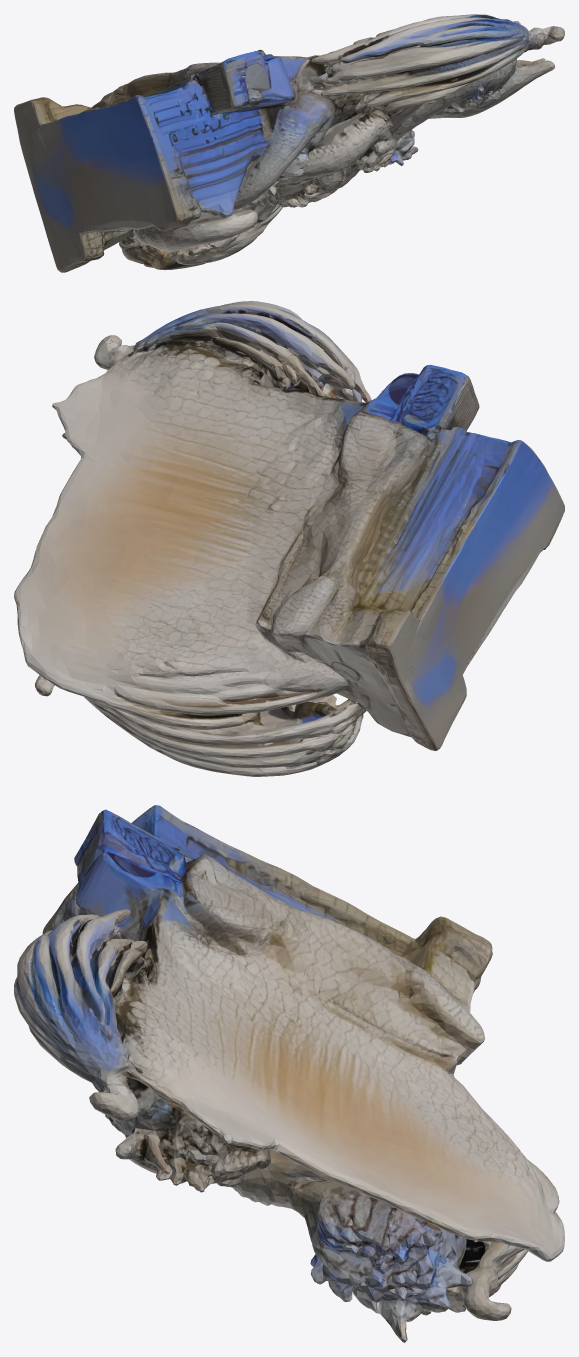
Rendered from grey-dragons-heart.glb.
The picture shows the model from 3 angles, top to bottom: view 1: azimuth 30°, elevation 25°; view 2: azimuth 150°, elevation 25°; view 3: azimuth 270°, elevation 25°; orthographic projection. The views are drawn at different scales.
Parts seen in each view (by area): view 1: grey dragons heart_textured.obj; view 2: grey dragons heart_textured.obj; view 3: grey dragons heart_textured.obj.
Part boxes in pixels (x1,y1,x2,y2): grey dragons heart_textured.obj: (14, 14, 564, 272); grey dragons heart_textured.obj: (14, 301, 564, 776); grey dragons heart_textured.obj: (14, 805, 564, 1342).
Size of the model in its own units: 1.99 by 1.4 by 1.68.
Materials: 1 (1 with a texture image).
